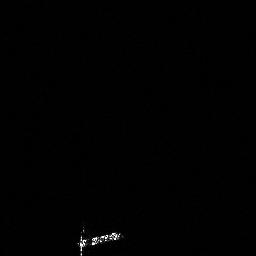ship: (74, 226, 124, 256)
